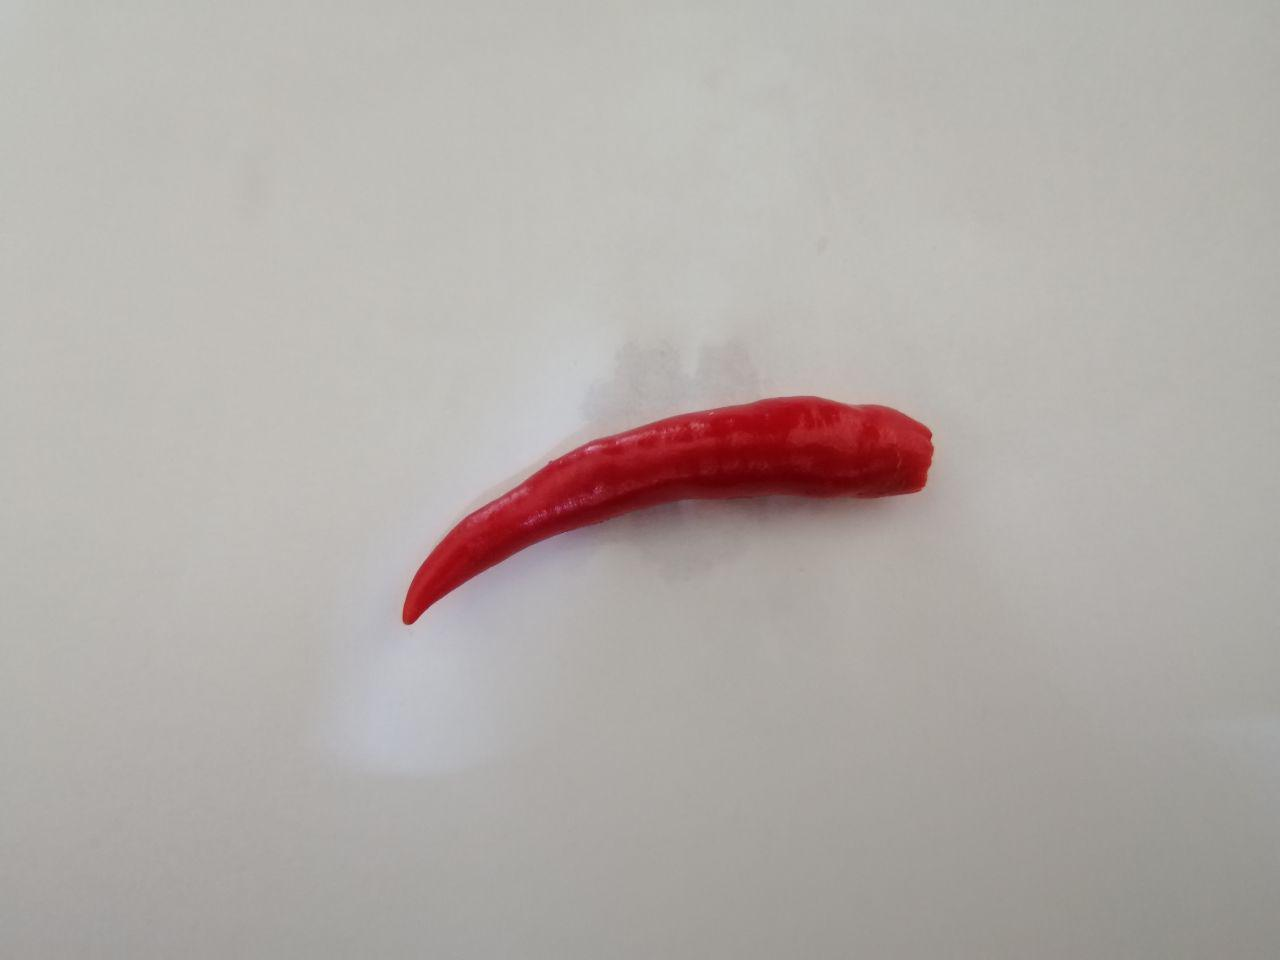lada merah: (362, 374, 955, 633)
